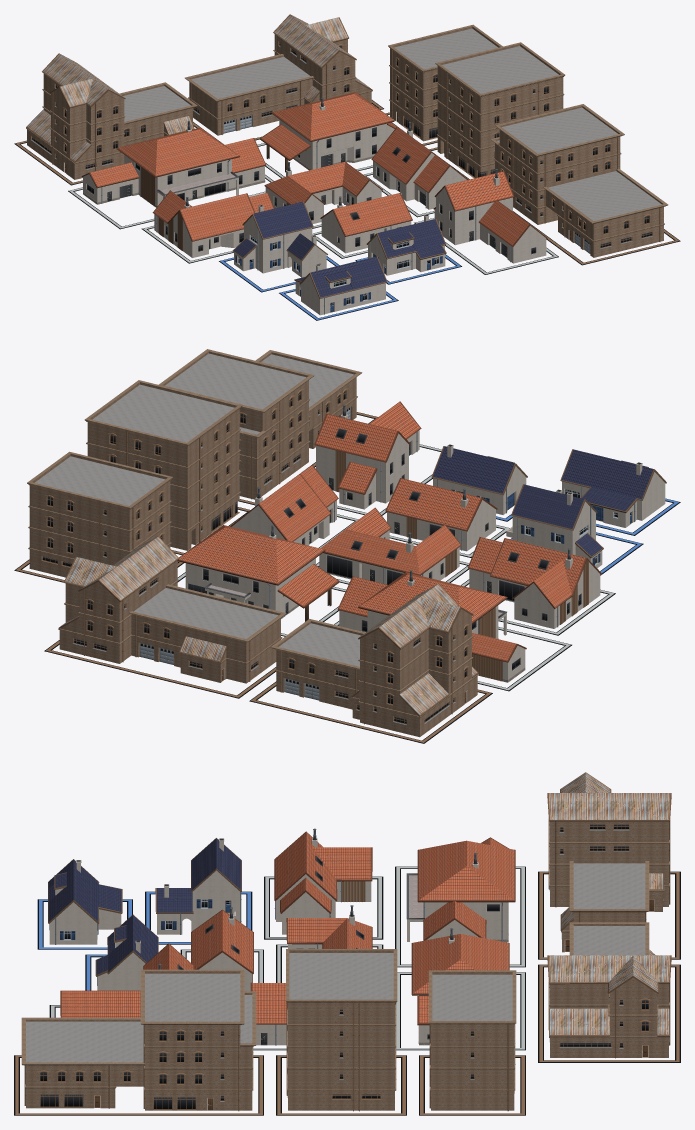
Rendered from 15_buildings.glb.
3 views of the same model, one above another, from view 1: azimuth 30°, elevation 25°; view 2: azimuth 150°, elevation 25°; view 3: azimuth 270°, elevation 25° (orthographic). The views are drawn at different scales.
Visible parts, largest first — view 1: Object_13, Object_8, Object_11, Object_7, Object_4, Object_3, Object_9, Object_10, Object_5; view 2: Object_13, Object_8, Object_7, Object_11, Object_4, Object_3, Object_9, Object_10, Object_5; view 3: Object_13, Object_7, Object_8, Object_4, Object_11, Object_10, Object_3, Object_9, Object_5.
Part boxes in pixels (<box>): Object_13: <box>26,24,668,257</box>; Object_8: <box>90,92,529,245</box>; Object_11: <box>83,105,546,315</box>; Object_7: <box>123,28,661,220</box>; Object_4: <box>14,14,680,305</box>; Object_3: <box>141,49,652,320</box>; Object_9: <box>233,201,445,297</box>; Object_10: <box>27,14,370,161</box>; Object_5: <box>81,121,510,262</box>; Object_13: <box>27,349,478,737</box>; Object_8: <box>179,402,585,660</box>; Object_7: <box>35,353,512,666</box>; Object_11: <box>185,414,665,679</box>; Object_4: <box>44,388,666,743</box>; Object_3: <box>14,407,680,712</box>; Object_9: <box>433,446,653,556</box>; Object_10: <box>62,537,476,714</box>; Object_5: <box>337,432,526,681</box>; Object_13: <box>21,821,669,1110</box>; Object_7: <box>26,863,645,1062</box>; Object_8: <box>61,832,514,1023</box>; Object_4: <box>14,772,680,1115</box>; Object_11: <box>49,838,508,1045</box>; Object_10: <box>548,773,670,1034</box>; Object_3: <box>37,828,642,1115</box>; Object_9: <box>48,838,241,974</box>; Object_5: <box>406,837,515,941</box>.
Bounding box in the file's own units: 99 × 20.5 × 112.
9 materials, 9 textured.
